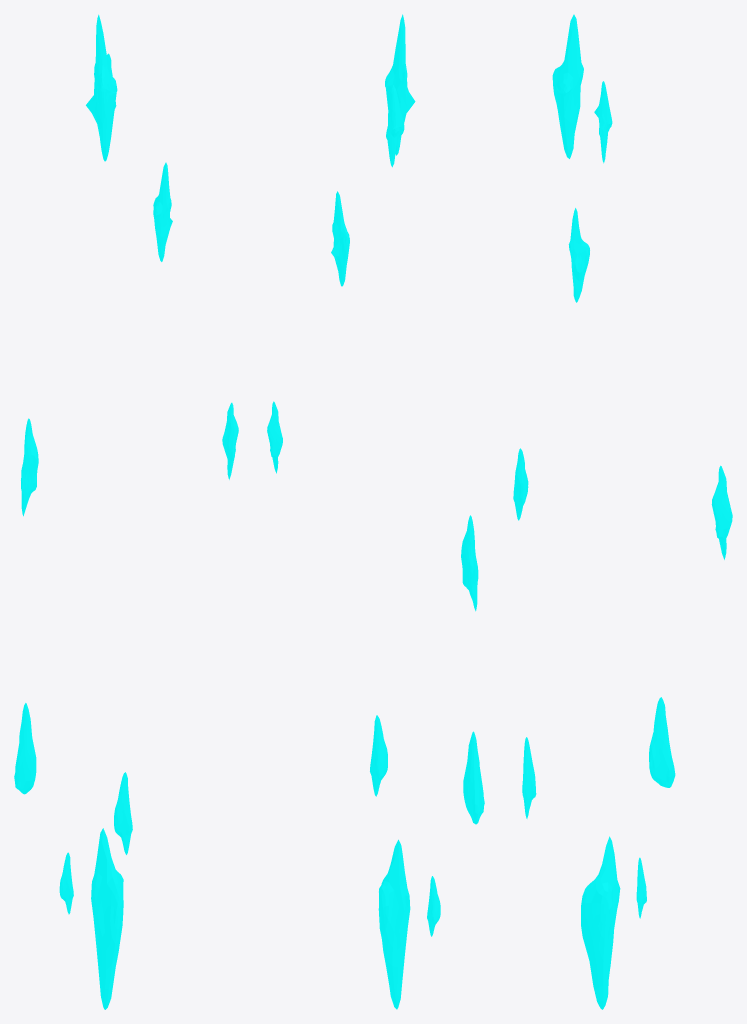
Rendered from rocks.fbx.
3 views of the same model, side by side, from view 1: azimuth 30°, elevation 25°; view 2: azimuth 210°, elevation 25°; view 3: azimuth 270°, elevation 25° (orthographic). The views are drawn at different scales.
Parts seen in each view (by area): view 1: rock.001, rock.006, rock.002, rock.007, rock.008, rock.003, rock.009, rock.004; view 2: rock.001, rock.006, rock.002, rock.008, rock.007, rock.003, rock.005, rock.009, rock.004; view 3: rock.001, rock.006, rock.002, rock.007, rock.008, rock.003, rock.005, rock.009.
Boxes of the visible parts, x1,y1,x2,y2 form: rock.001: (91, 828, 123, 1009); rock.006: (86, 14, 117, 161); rock.002: (14, 703, 36, 794); rock.007: (153, 162, 172, 261); rock.008: (21, 418, 38, 516); rock.003: (114, 772, 132, 854); rock.009: (222, 402, 238, 479); rock.004: (59, 852, 73, 914); rock.001: (378, 839, 410, 1009); rock.006: (385, 14, 415, 155); rock.002: (463, 731, 484, 824); rock.008: (461, 515, 478, 611); rock.007: (331, 191, 349, 286); rock.003: (370, 715, 387, 796); rock.005: (386, 85, 404, 167); rock.009: (267, 401, 282, 473); rock.004: (427, 876, 440, 936); rock.001: (581, 836, 620, 1009); rock.006: (552, 14, 583, 158); rock.002: (649, 697, 675, 787); rock.007: (568, 208, 589, 302); rock.008: (711, 465, 732, 559); rock.003: (522, 737, 536, 818); rock.005: (594, 81, 612, 163); rock.009: (513, 448, 528, 520).
Bounding box in the file's own units: 305 × 1969 × 397.
